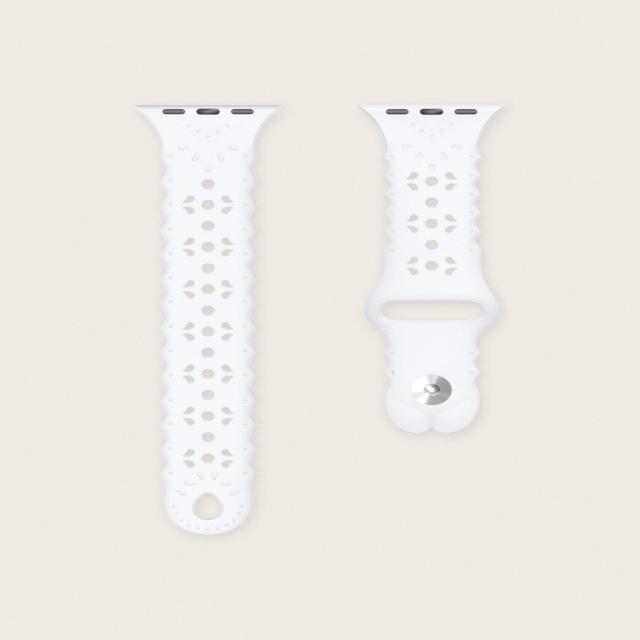bracelet: (101, 62, 331, 554), (331, 61, 567, 485)
